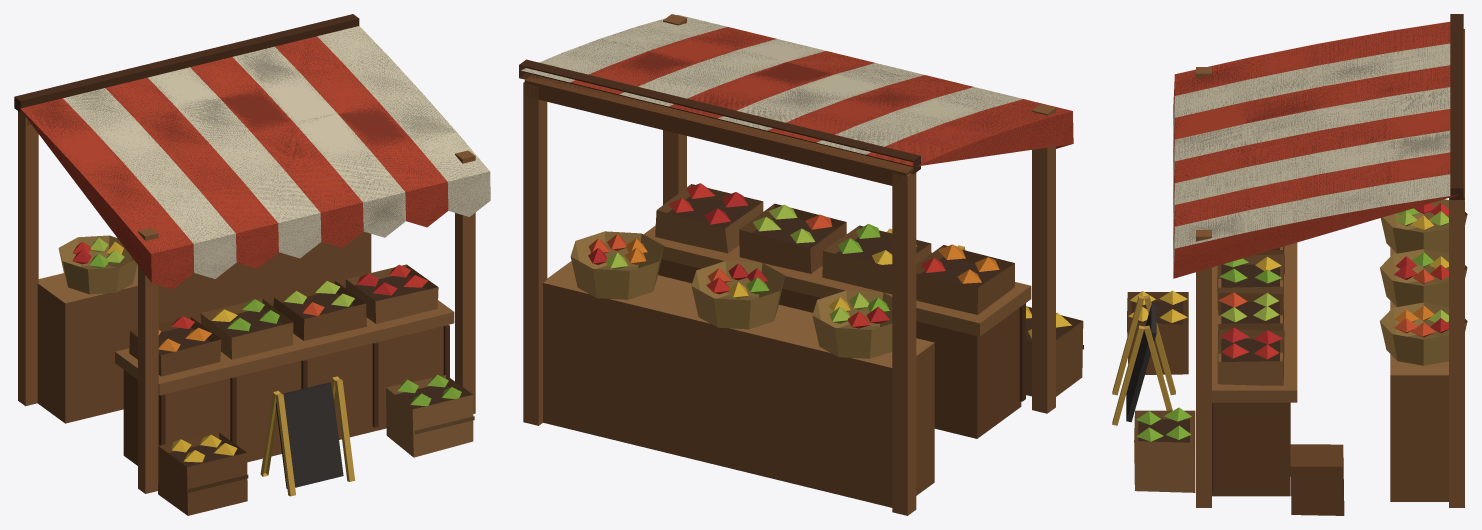
The model's file is town_market_stall.glb.
3 views of the same model, side by side, from view 1: azimuth 30°, elevation 25°; view 2: azimuth 150°, elevation 25°; view 3: azimuth 270°, elevation 25° (orthographic). The views are drawn at different scales.
Parts seen in each view (by area): view 1: town_market_stall; view 2: town_market_stall; view 3: town_market_stall.
Part boxes in pixels (x1=…): town_market_stall: x1=14, y1=14, x2=490, y2=515; town_market_stall: x1=519, y1=14, x2=1083, y2=515; town_market_stall: x1=1112, y1=14, x2=1467, y2=515.
Bounding box in the file's own units: 3.2 × 2.68 × 2.67.
